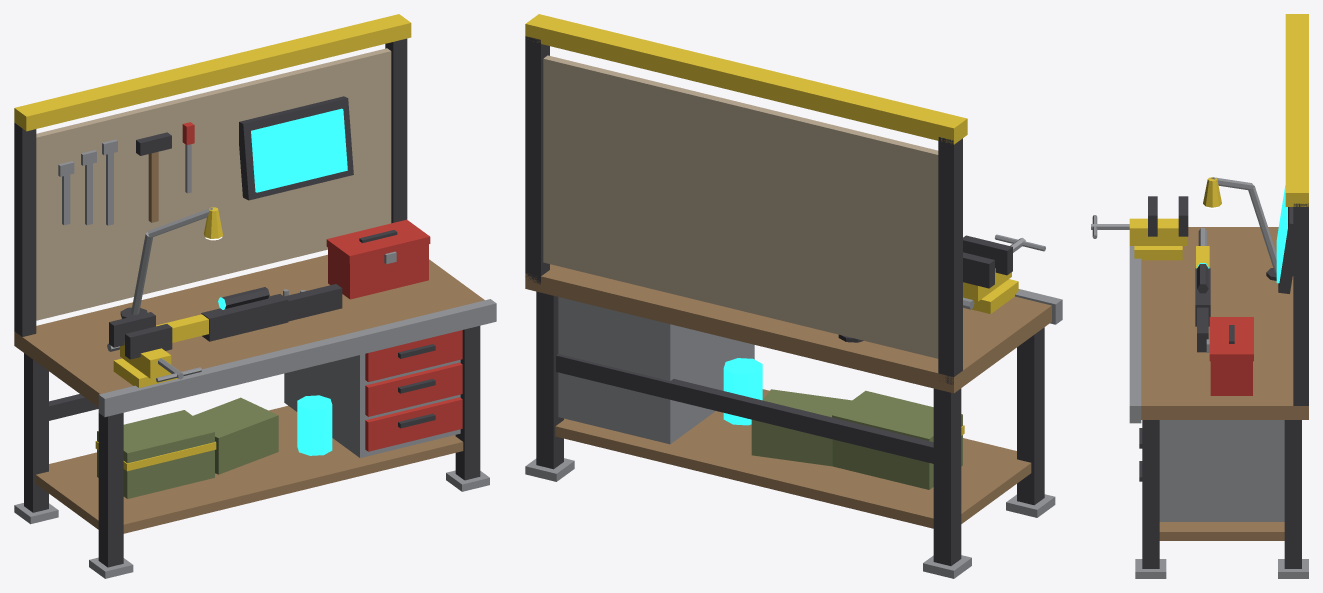
Rendered from weapons_bench.glb.
3 views of the same model, side by side, from view 1: azimuth 30°, elevation 25°; view 2: azimuth 150°, elevation 25°; view 3: azimuth 270°, elevation 25° (orthographic). The views are drawn at different scales.
Visible parts, largest first — view 1: PROP_WeaponsBench_Mesh; view 2: PROP_WeaponsBench_Mesh; view 3: PROP_WeaponsBench_Mesh.
Part boxes in pixels (x1,y1,x2,y2): PROP_WeaponsBench_Mesh: (14, 14, 496, 578); PROP_WeaponsBench_Mesh: (525, 14, 1062, 578); PROP_WeaponsBench_Mesh: (1091, 14, 1308, 578).
Size of the model in its own units: 2.24 by 2.21 by 1.13.
